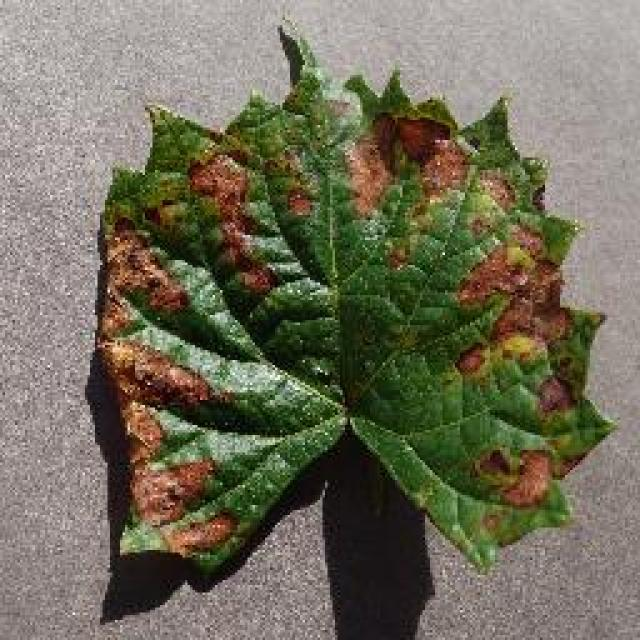Black_Measles: (54, 18, 626, 598)
